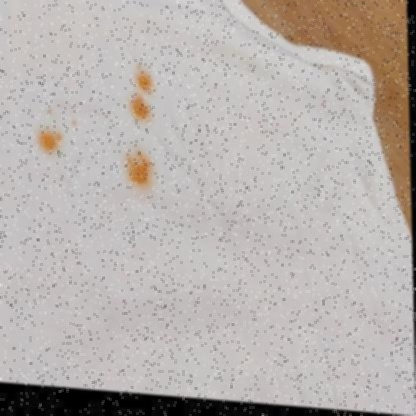kimchi: (120, 66, 168, 127), (121, 146, 153, 192), (30, 126, 67, 160), (59, 113, 83, 134), (44, 105, 53, 116)
